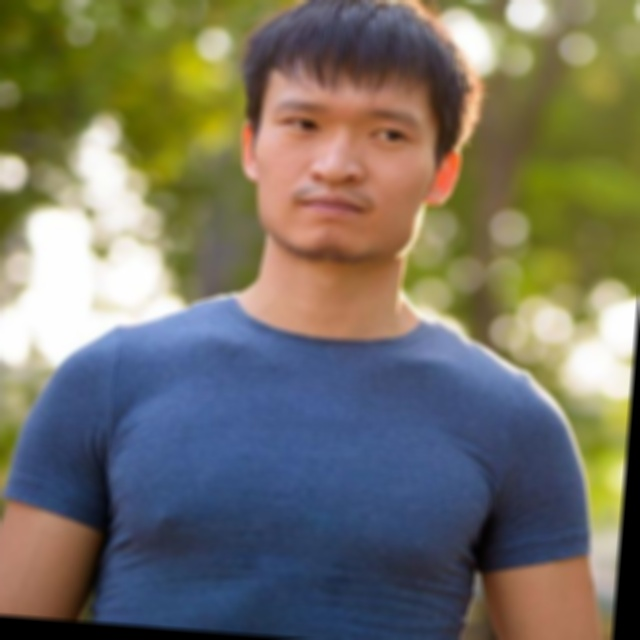Sin_Casco_Mascarrilla: (220, 0, 492, 269)
Sin_Chaleco: (67, 280, 559, 640)
